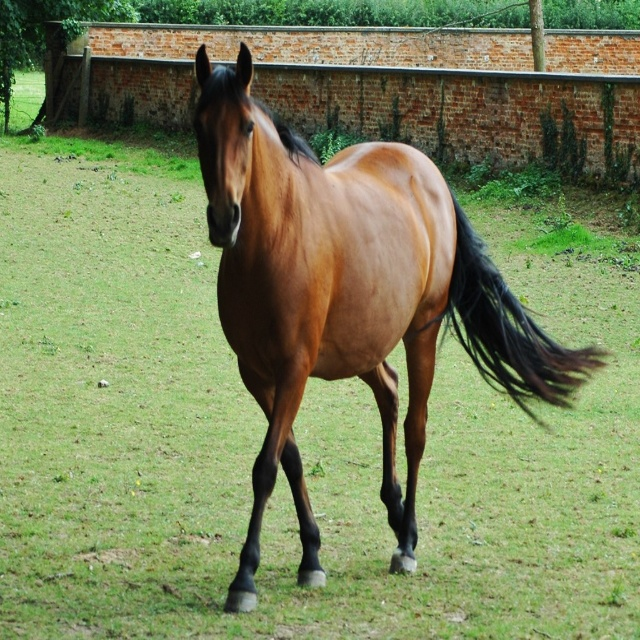Horse: (190, 39, 617, 613)
